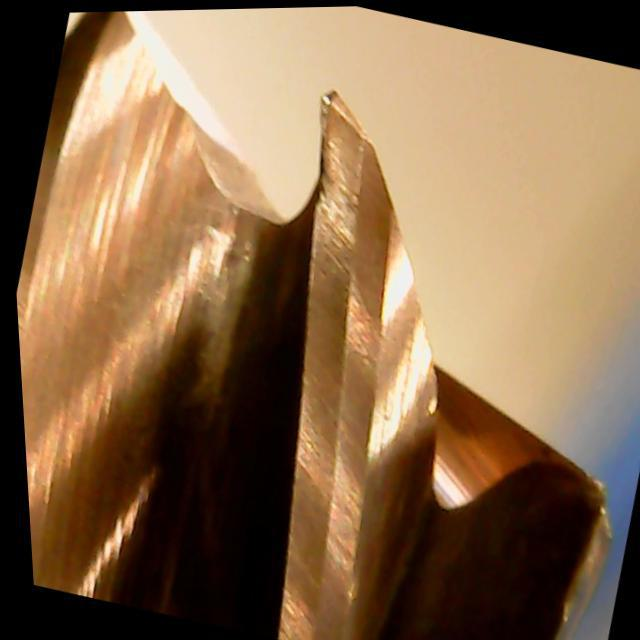Tool-wear-class-1: (223, 71, 472, 433)
